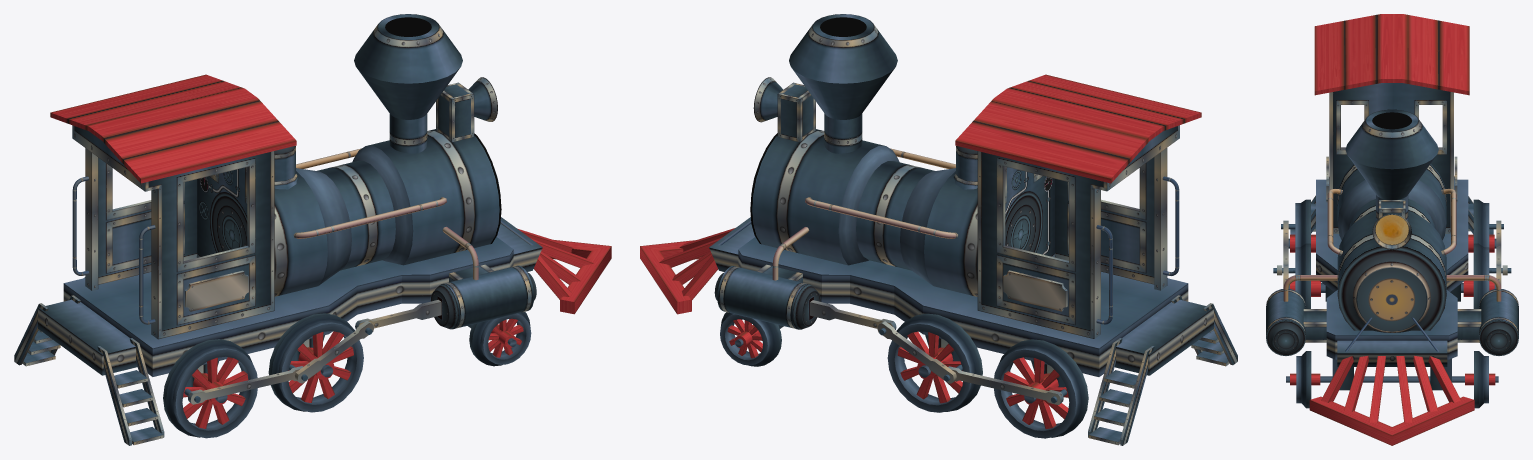
File: Loco_01.FBX
3 renders of one model, left to right at view 1: azimuth 30°, elevation 25°; view 2: azimuth 150°, elevation 25°; view 3: azimuth 270°, elevation 25°, orthographic. The views are drawn at different scales.
Parts seen in each view (by area): view 1: Body, Cabin, Wheel_A, Wheel_B, Wheel_C, Link_Left_C, Link_Left_B, Link_Left_A; view 2: Body, Cabin, Wheel_A, Wheel_B, Wheel_C, Link_Right_C, Link_Right_B, Link_Right_A; view 3: Body, Cabin, Wheel_C, Wheel_B, Wheel_A, Light, Link_Right_C, Link_Left_C.
Part boxes in pixels (x1=…): Body: x1=14, y1=14, x2=611, y2=445; Cabin: x1=50, y1=74, x2=296, y2=339; Wheel_A: x1=84, y1=277, x2=257, y2=438; Wheel_B: x1=268, y1=313, x2=363, y2=412; Wheel_C: x1=469, y1=312, x2=531, y2=366; Link_Left_C: x1=184, y1=366, x2=303, y2=404; Link_Left_B: x1=289, y1=321, x2=373, y2=383; Link_Left_A: x1=355, y1=299, x2=441, y2=334; Body: x1=640, y1=14, x2=1237, y2=445; Cabin: x1=955, y1=74, x2=1201, y2=338; Wheel_A: x1=994, y1=278, x2=1167, y2=438; Wheel_B: x1=887, y1=313, x2=982, y2=412; Wheel_C: x1=720, y1=312, x2=781, y2=366; Link_Right_C: x1=948, y1=366, x2=1067, y2=404; Link_Right_B: x1=877, y1=321, x2=962, y2=383; Link_Right_A: x1=810, y1=300, x2=896, y2=335; Body: x1=1266, y1=109, x2=1518, y2=445; Cabin: x1=1314, y1=14, x2=1469, y2=233; Wheel_C: x1=1286, y1=351, x2=1498, y2=408; Wheel_B: x1=1288, y1=243, x2=1496, y2=308; Wheel_A: x1=1288, y1=199, x2=1496, y2=252; Light: x1=1375, y1=214, x2=1408, y2=244; Link_Right_C: x1=1489, y1=220, x2=1503, y2=264; Link_Left_C: x1=1281, y1=220, x2=1295, y2=264.
Size of the model in its own units: 4.62 by 2.54 by 2.18.
